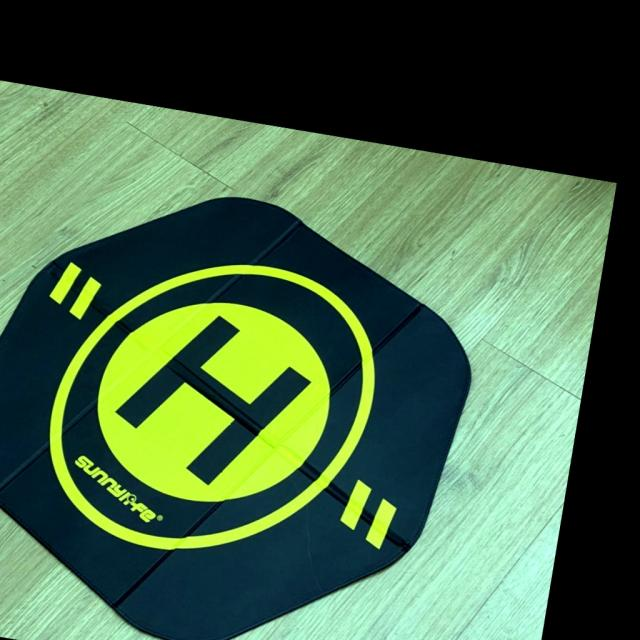helipad: (46, 260, 380, 552)
